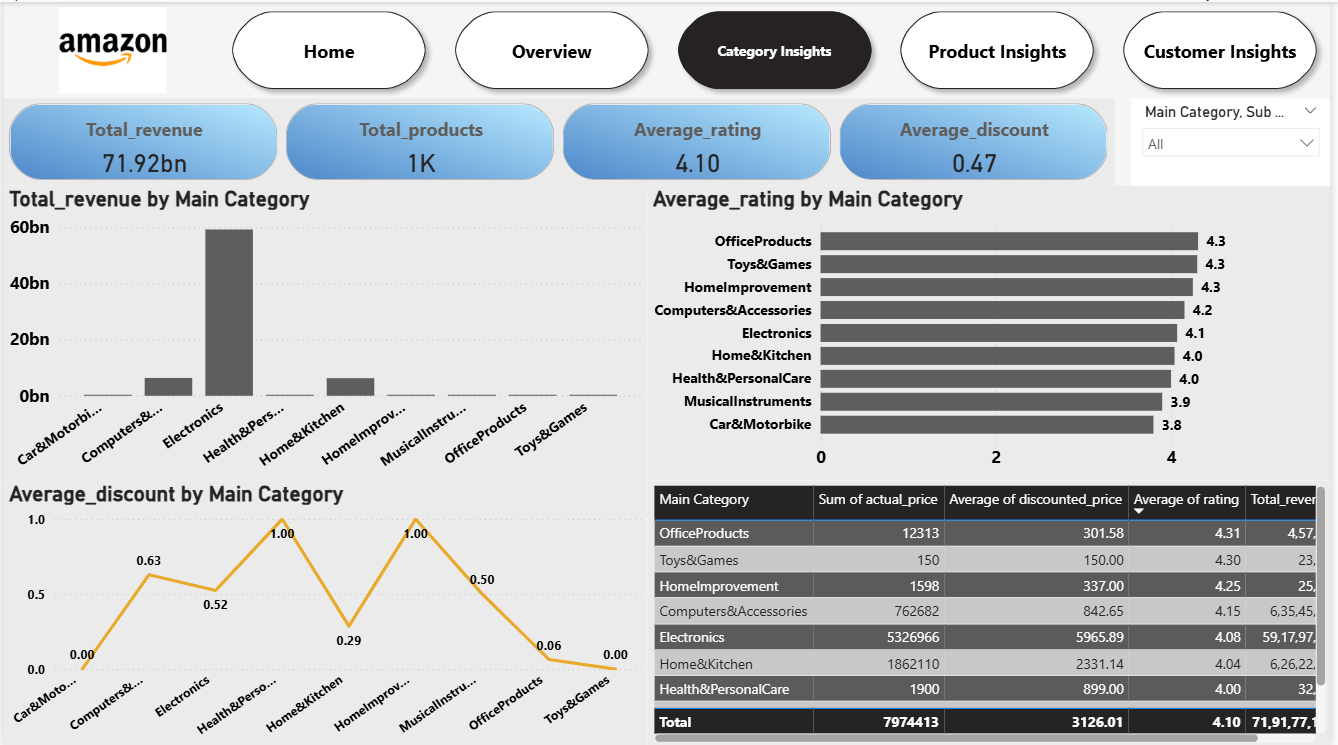

What the dashboard file says about the page in this screenshot:
{"tool":"powerbi","page":{"name":"Category Insights","canvas":[1280,720],"ordinal":2},"visuals":[{"type":"image","box":[0,0,211.1,92.9],"z":0},{"type":"pageNavigator","box":[211,0,1069,93.3],"z":1000},{"type":"cardVisual","fields":{"Data":["amazon.Total_revenue","amazon.Total_products","amazon.Average_rating","amazon.Average_discount"]},"box":[0,92.9,1072,84],"z":2000},{"type":"clusteredColumnChart","fields":{"Y":["amazon.Total_revenue"],"Category":["amazon.Main Category Hierarchy.Main Category","amazon.Main Category Hierarchy.Sub Category","amazon.Main Category Hierarchy.Sub Category 2","amazon.Main Category Hierarchy.Sub Category 3","amazon.Main Category Hierarchy.Final Category"]},"box":[0,177.3,621.2,284.9],"z":3000},{"type":"barChart","fields":{"Y":["amazon.Average_rating"],"Category":["amazon.Main Category Hierarchy.Main Category","amazon.Main Category Hierarchy.Sub Category","amazon.Main Category Hierarchy.Sub Category 2","amazon.Main Category Hierarchy.Sub Category 3","amazon.Main Category Hierarchy.Final Category"]},"box":[621.2,177.3,659.1,283.7],"z":4000},{"type":"lineChart","fields":{"Y":["amazon.Average_discount"],"Category":["amazon.Main Category Hierarchy.Main Category","amazon.Main Category Hierarchy.Sub Category","amazon.Main Category Hierarchy.Sub Category 2","amazon.Main Category Hierarchy.Sub Category 3","amazon.Main Category Hierarchy.Final Category"]},"box":[0,462.2,621.2,258],"z":5000},{"type":"slicer","fields":{"Values":["amazon.Main Category Hierarchy.Main Category","amazon.Main Category Hierarchy.Sub Category","amazon.Main Category Hierarchy.Sub Category 2","amazon.Main Category Hierarchy.Sub Category 3","amazon.Main Category Hierarchy.Final Category"]},"box":[1087.9,92.7,191.8,85],"z":6000},{"type":"tableEx","fields":{"Values":["amazon.Main Category","Sum(amazon.actual_price)","Avg(amazon.discounted_price)","Avg(amazon.rating)","amazon.Total_revenue"]},"box":[621,462,659,258],"z":7000}]}

Visuals, with their boxes in screenshot pixels (x1, y1, x2, y2), scaled from the page's 1280x720 canvas onto the 1338x745 screenshot:
image: [x1=0, y1=0, x2=221, y2=96]
pageNavigator: [x1=221, y1=0, x2=1337, y2=97]
cardVisual - amazon.Total_revenue x amazon.Total_products: [x1=0, y1=96, x2=1121, y2=183]
clusteredColumnChart - amazon.Total_revenue x amazon.Main Category Hierarchy.Main Category: [x1=0, y1=183, x2=649, y2=478]
barChart - amazon.Average_rating x amazon.Main Category Hierarchy.Main Category: [x1=649, y1=183, x2=1337, y2=477]
lineChart - amazon.Average_discount x amazon.Main Category Hierarchy.Main Category: [x1=0, y1=478, x2=649, y2=744]
slicer - amazon.Main Category Hierarchy.Main Category x amazon.Main Category Hierarchy.Sub Category: [x1=1137, y1=96, x2=1337, y2=184]
tableEx - amazon.Main Category x Sum(amazon.actual_price): [x1=649, y1=478, x2=1337, y2=744]
